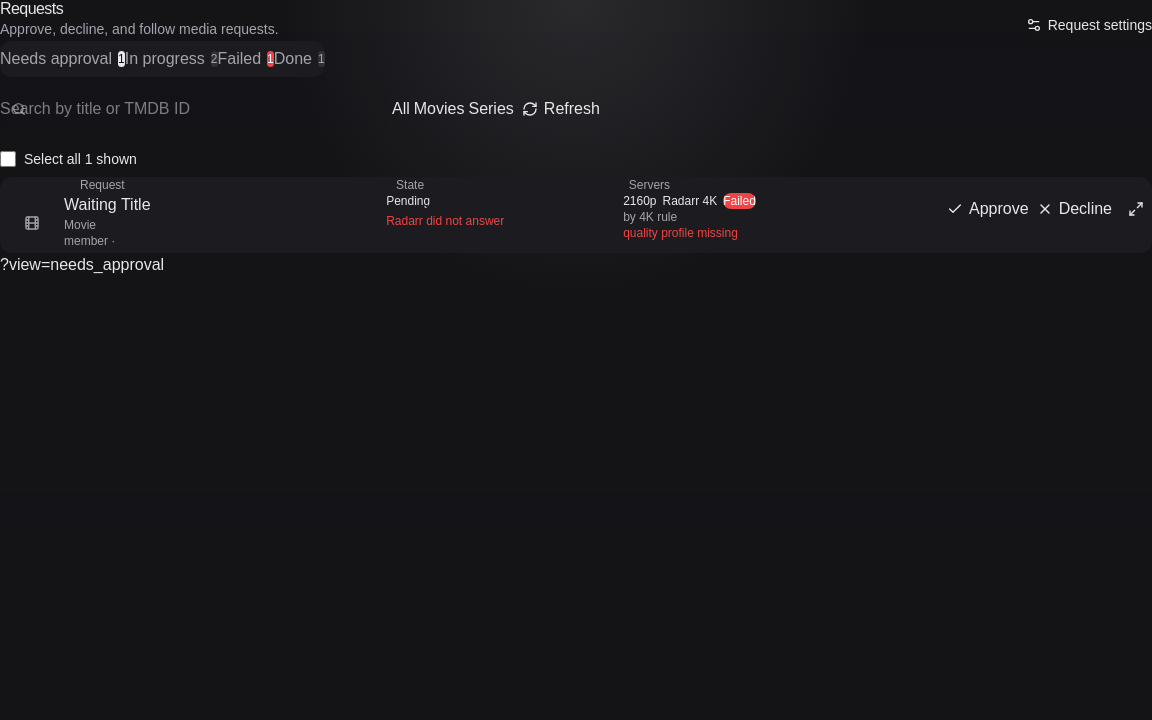
request administration › shows a request's servers, where it would go, and its history in plain words
The width and height of the screenshot is (1152, 720).
Note: A click anywhere on the row but its controls opens the dialog.
Click the text "Radarr did not answer" at [445, 221], box left=386, top=213, right=504, bottom=229
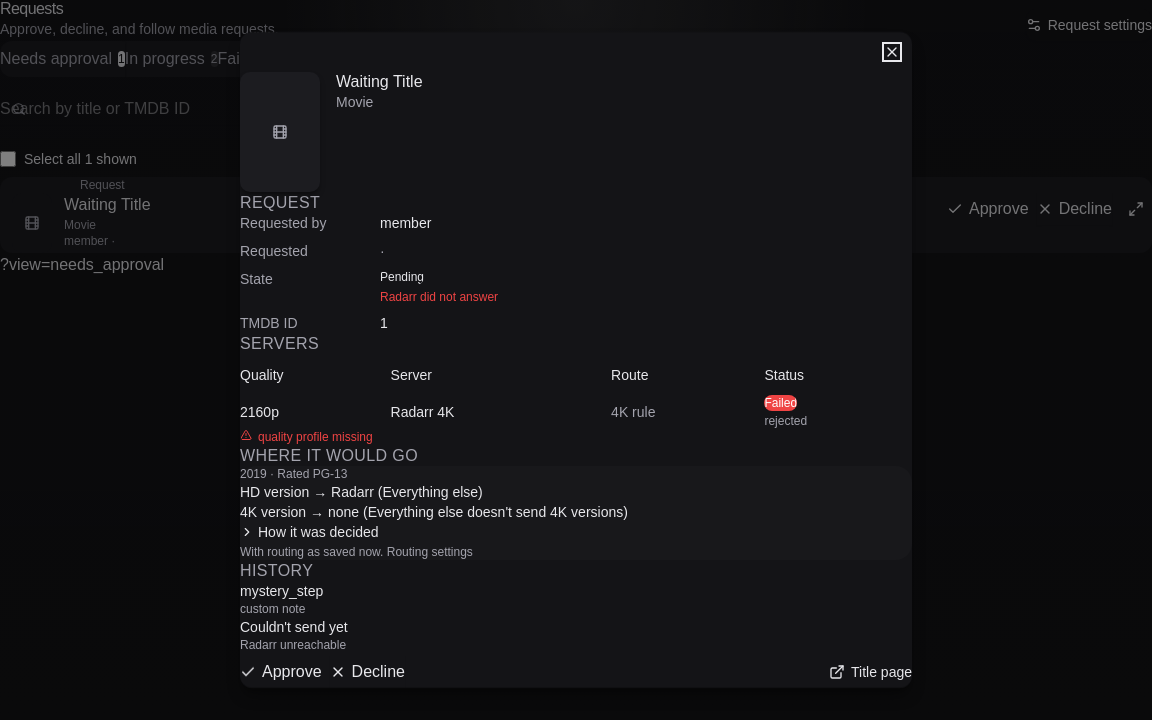
Check: the list item "mystery_step custom note" is shown, box left=240, top=583, right=323, bottom=616
Check: the list item "Couldn't send yet Radarr unreachable" is shown, box left=240, top=619, right=348, bottom=652
Check: the table shows "2160p", box left=240, top=404, right=279, bottom=420
Click the button "How it was decided" at [309, 532], box left=240, top=522, right=379, bottom=542
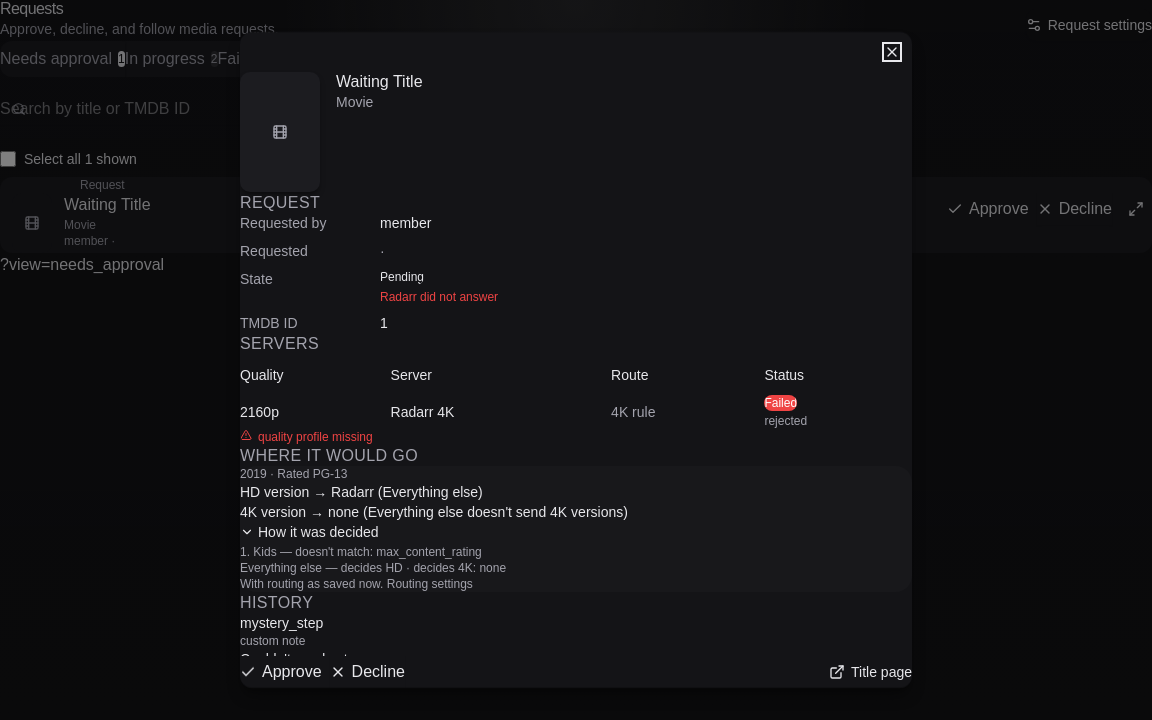
Check: the button with aria-label "Approve: Waiting Title" is enabled, box left=240, top=656, right=322, bottom=688
Check: the list item "Everything else — decides HD · decides 4K: none" is shown, box left=240, top=561, right=506, bottom=575
